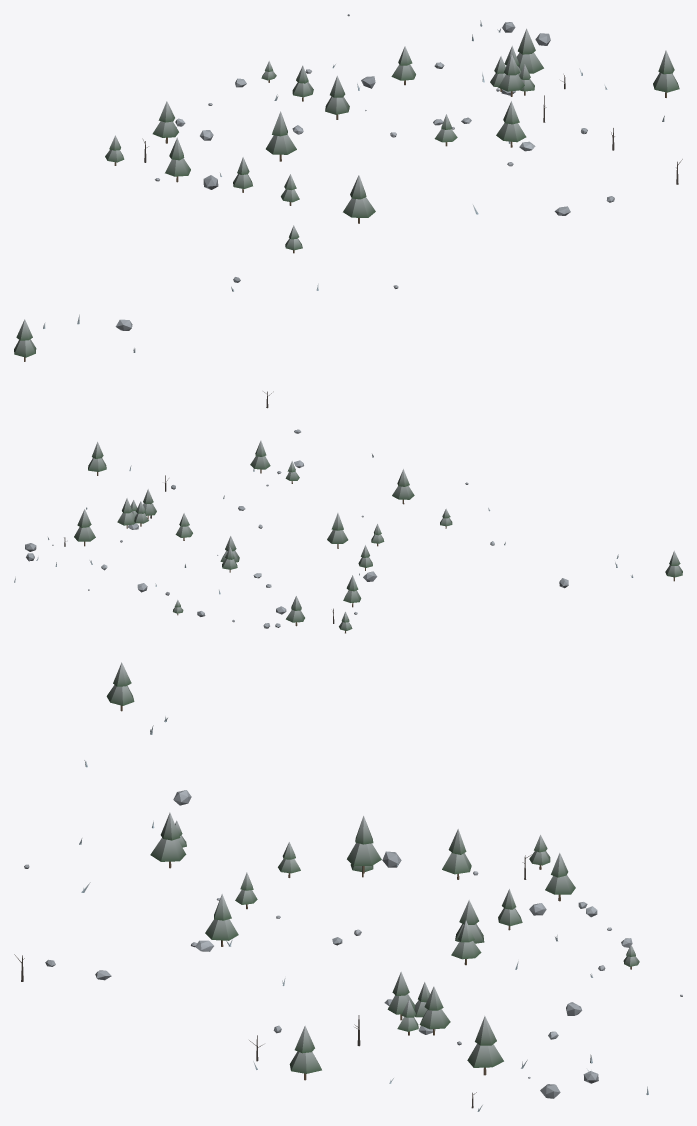
Rendered from frost_land_scatter_c18_11_lod1.glb.
3 renders of one model, top to bottom at view 1: azimuth 30°, elevation 25°; view 2: azimuth 150°, elevation 25°; view 3: azimuth 270°, elevation 25°, orthographic. The views are drawn at different scales.
Parts seen in each view (by area): view 1: frost_land_scatter_c18_11_lod1; view 2: frost_land_scatter_c18_11_lod1; view 3: frost_land_scatter_c18_11_lod1.
Boxes of the visible parts, left/top/right/bottom form: frost_land_scatter_c18_11_lod1: left=14, top=14, right=682, bottom=361; frost_land_scatter_c18_11_lod1: left=14, top=391, right=682, bottom=633; frost_land_scatter_c18_11_lod1: left=14, top=662, right=682, bottom=1111.
Size of the model in its own units: 236 by 36.02 by 161.
